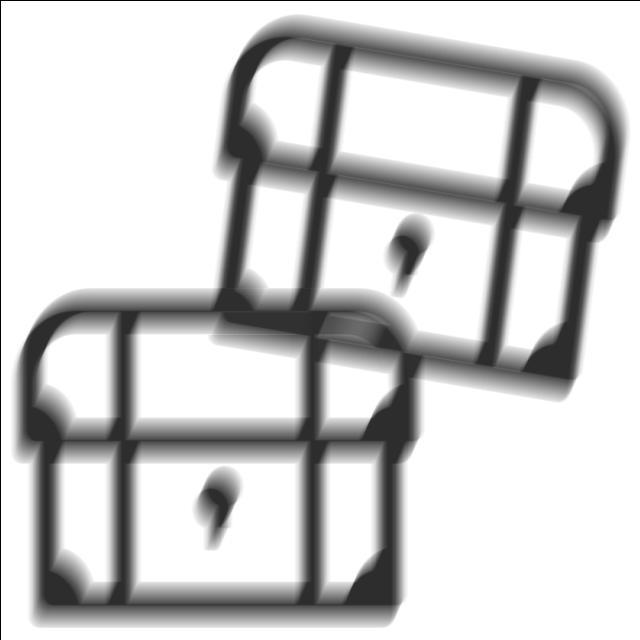treasure_box: (199, 11, 637, 406), (8, 272, 444, 630)
